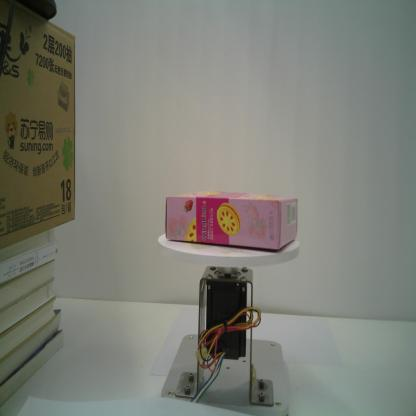Dessert: (164, 189, 299, 254)
